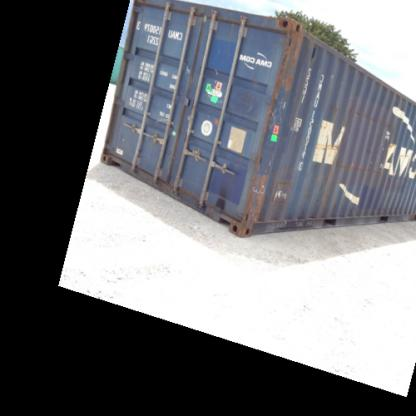Damage: (262, 24, 298, 134), (338, 100, 402, 130), (242, 152, 266, 226), (269, 209, 415, 219), (331, 160, 383, 178), (212, 180, 232, 216), (270, 176, 294, 204), (237, 84, 253, 118), (110, 128, 128, 154), (178, 55, 194, 81), (314, 137, 342, 151), (208, 62, 226, 82), (394, 149, 414, 161)
